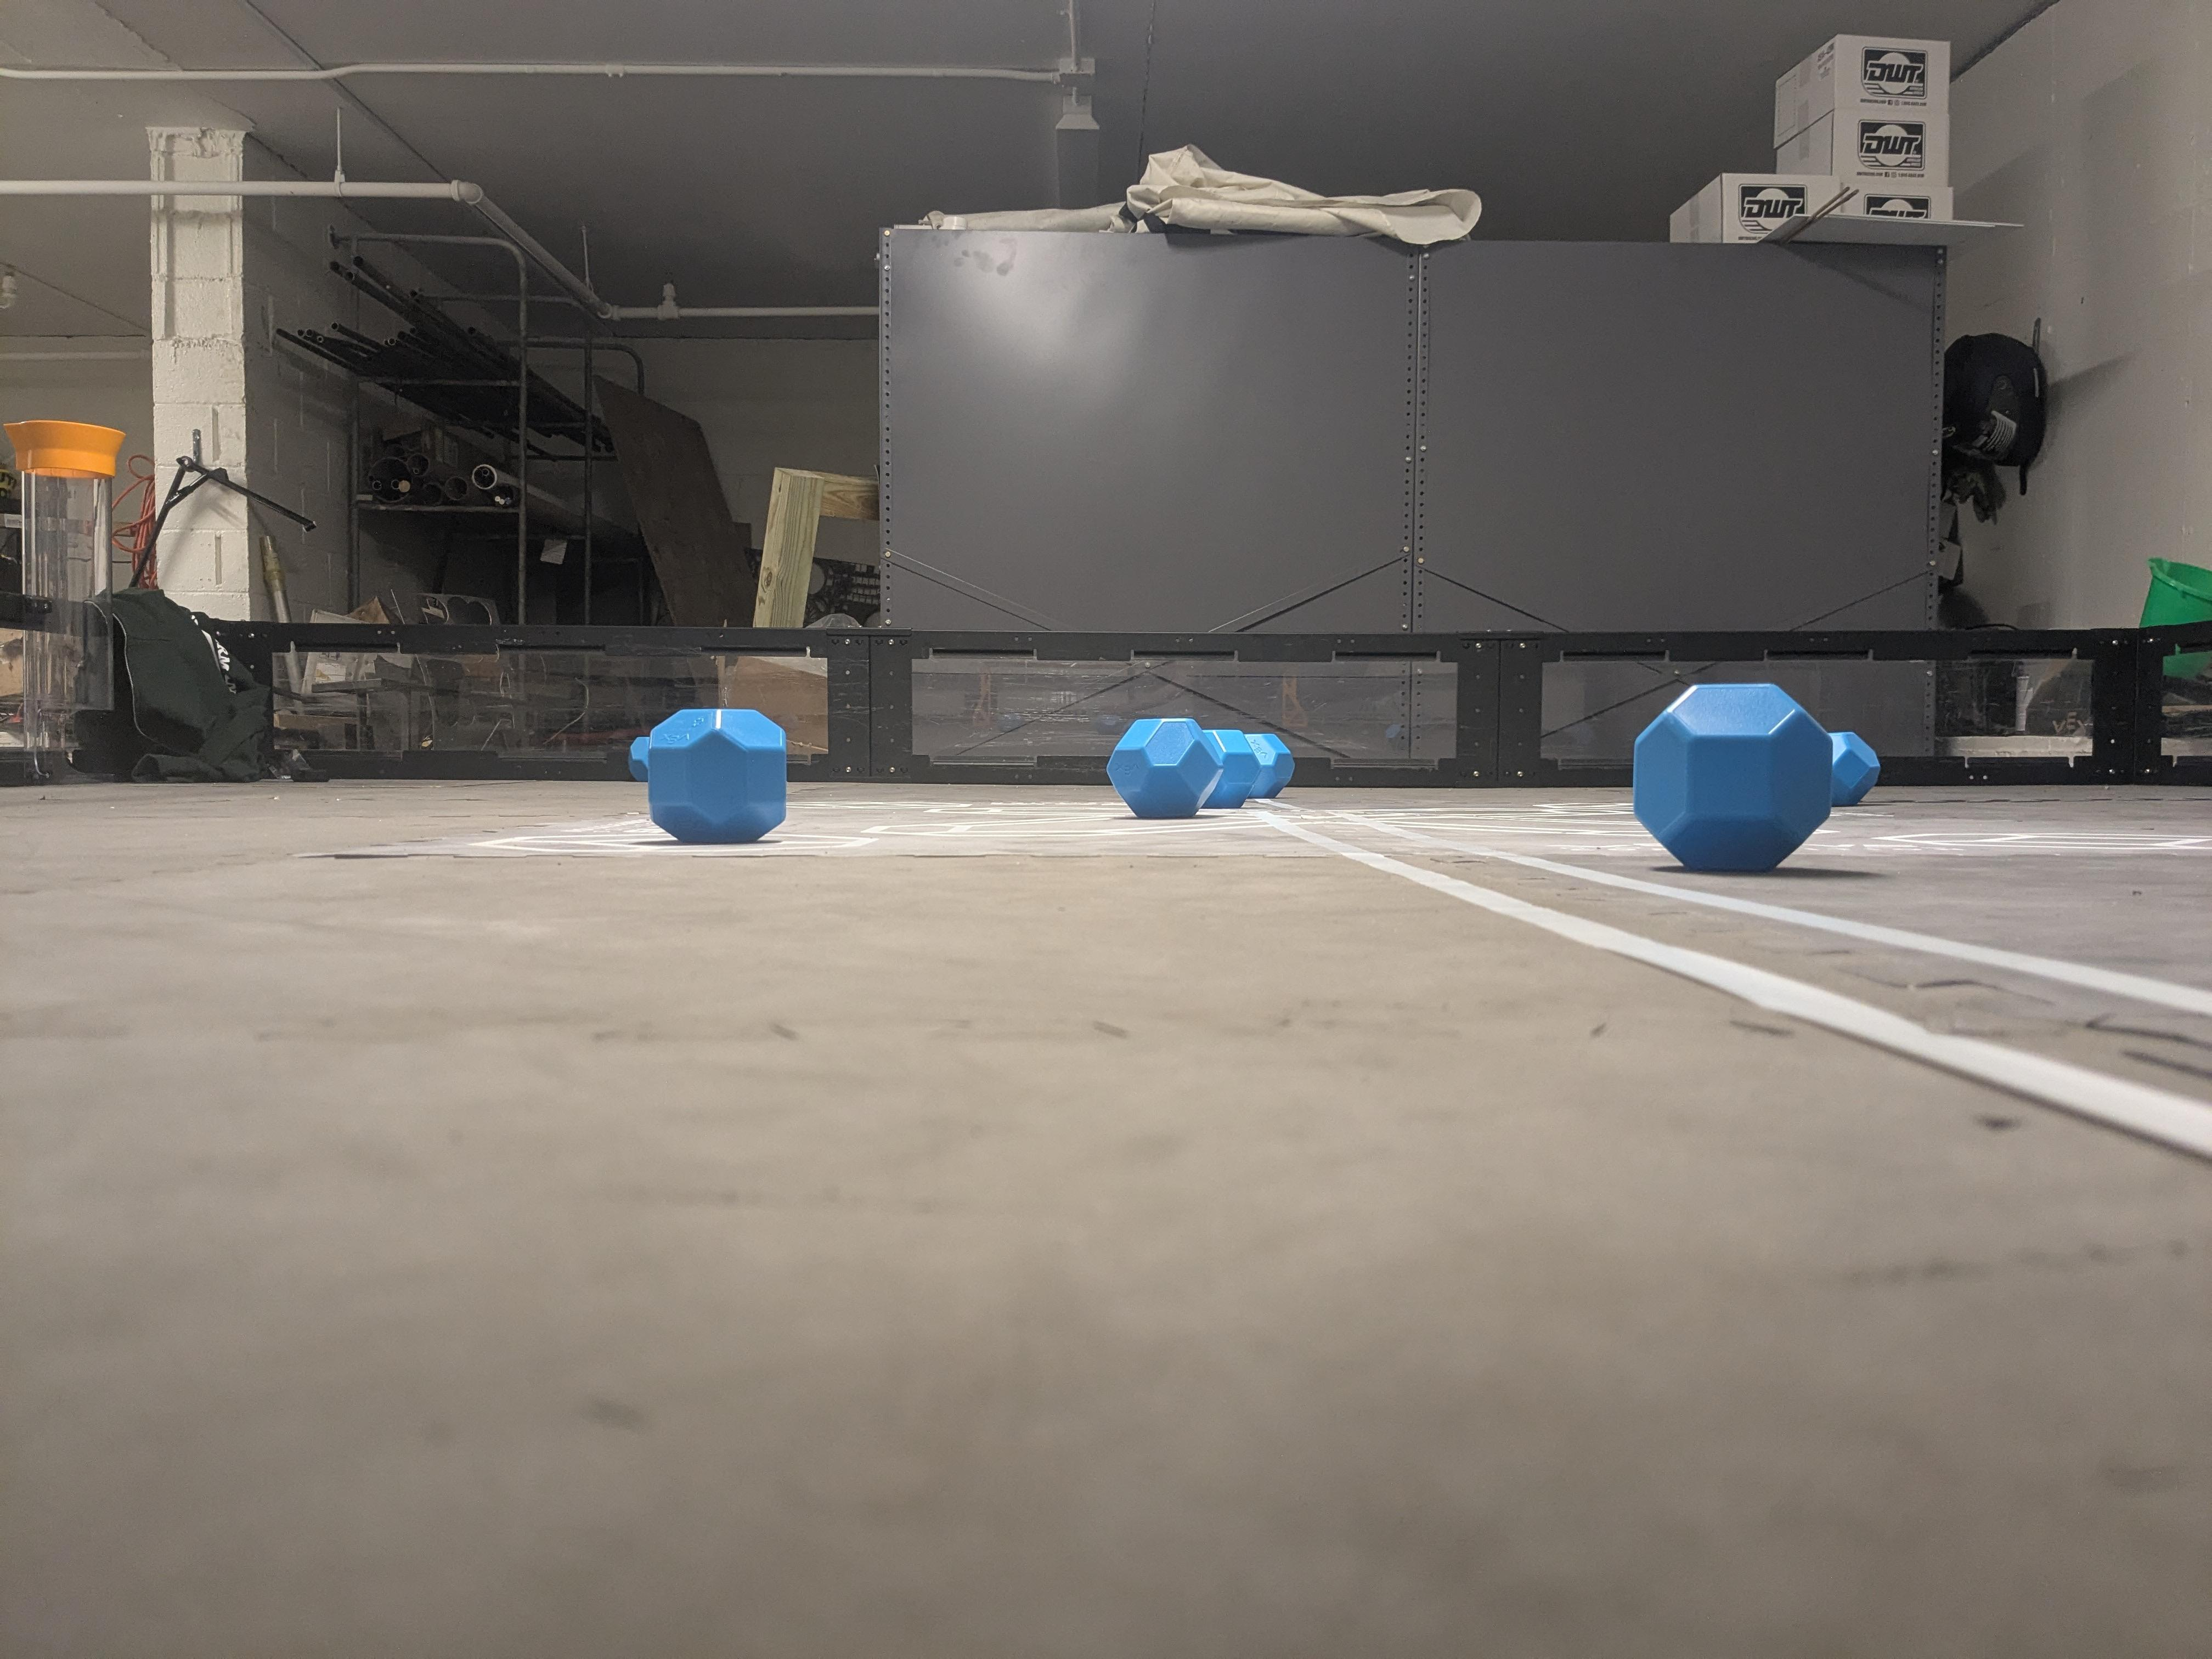Vex-Pieces-BLUE: (1634, 685, 1876, 868), (629, 708, 784, 842), (1106, 720, 1292, 816)
